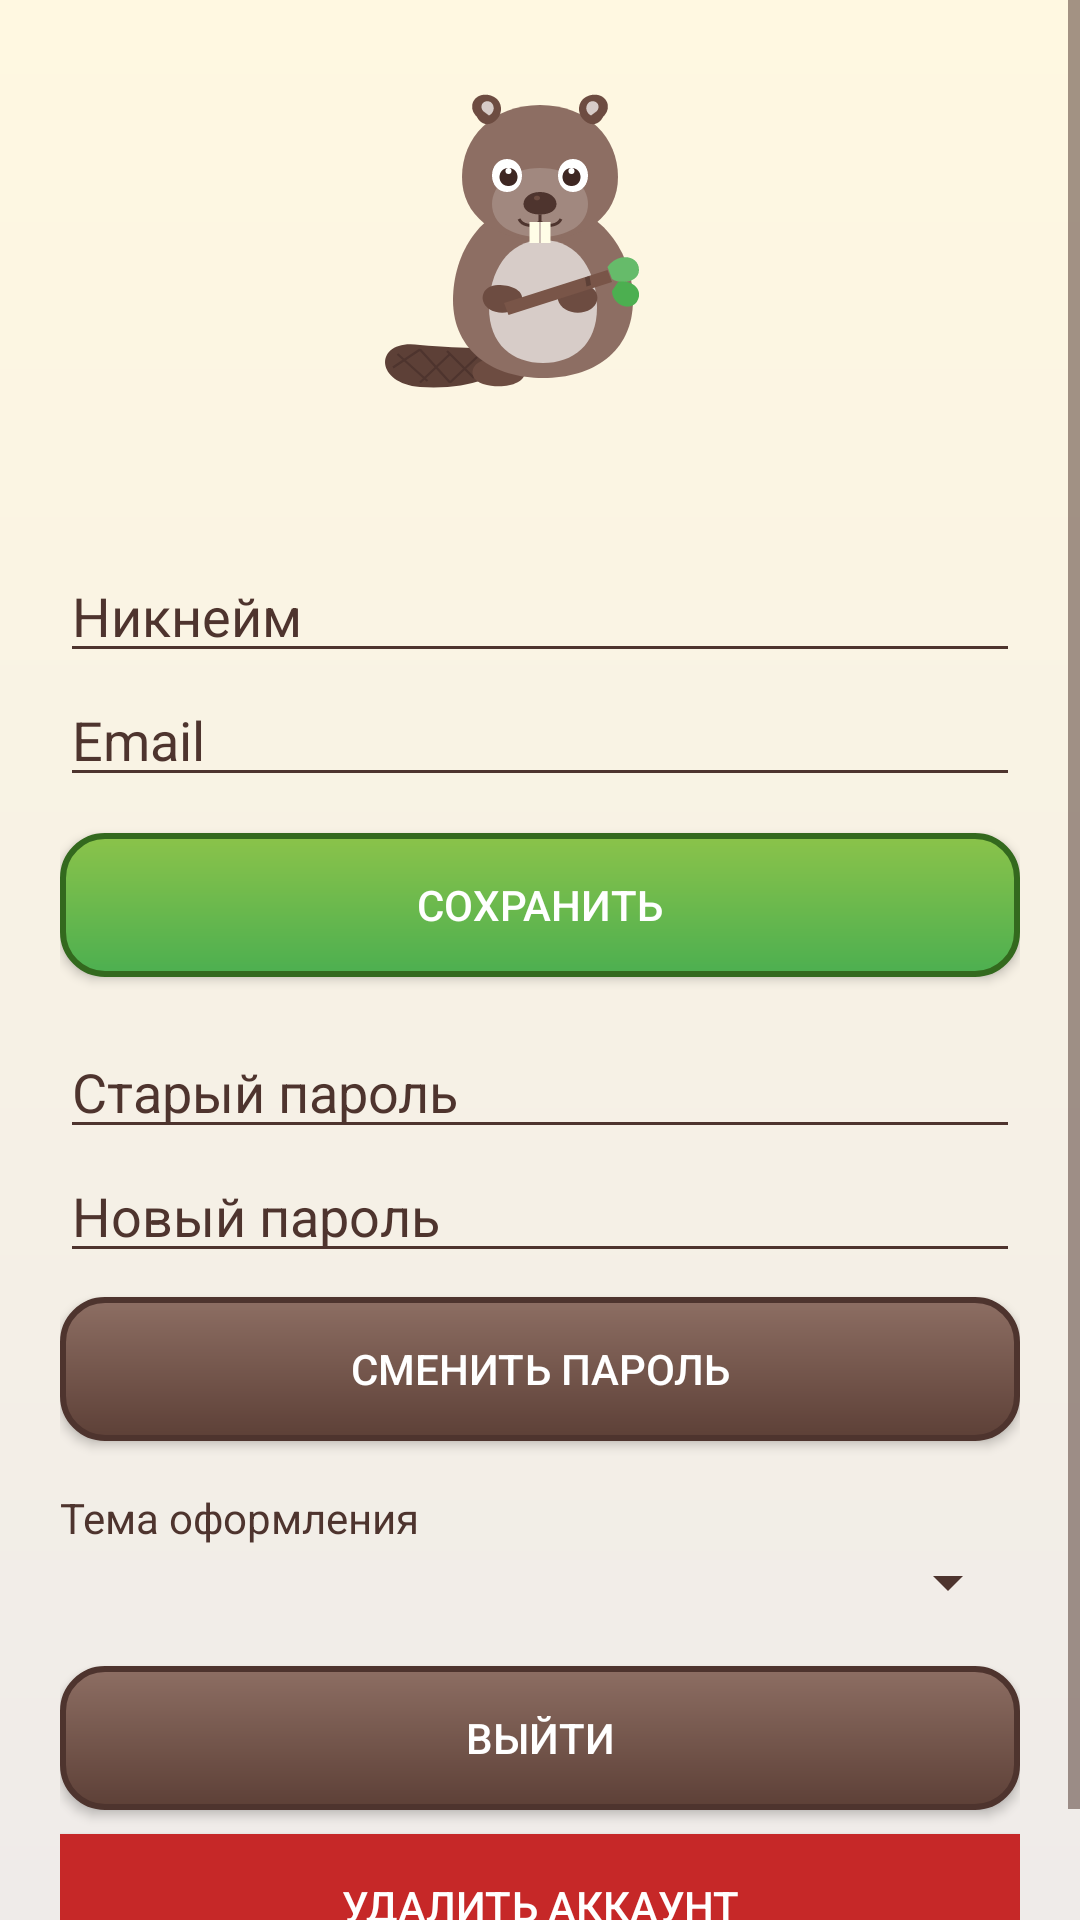

Where to tap for icons on this 1080 × 1920 app screen, as (x=x, y=y):
beaver: (x=512, y=241)
